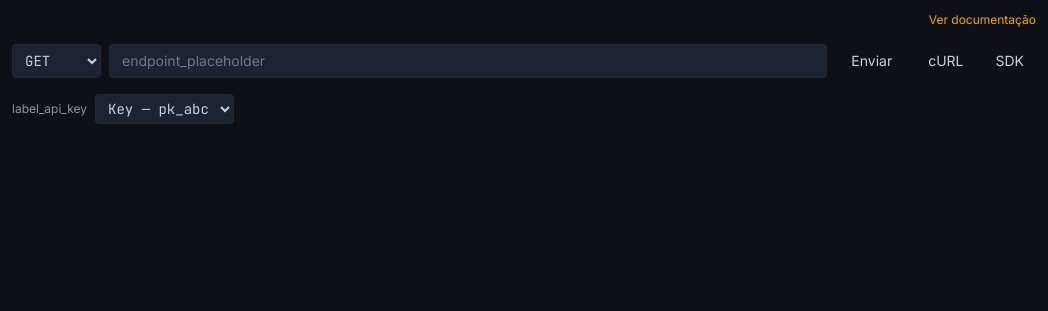
Scenario: PlaygroundPanel — histórico › exibe lista de histórico após envio
The width and height of the screenshot is (1048, 311).
Expected: the dropdown with test id "apikey-select" is shown, [95,94,234,124]
In the field with test id "endpoint-input": (468, 61) [109,44,827,78], type "/v1/check"
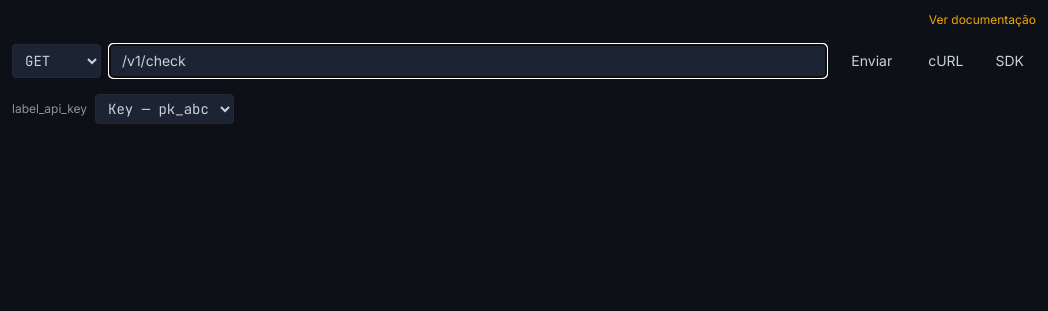
Click the button with test id "btn-send": (872, 61) [835,45,908,77]
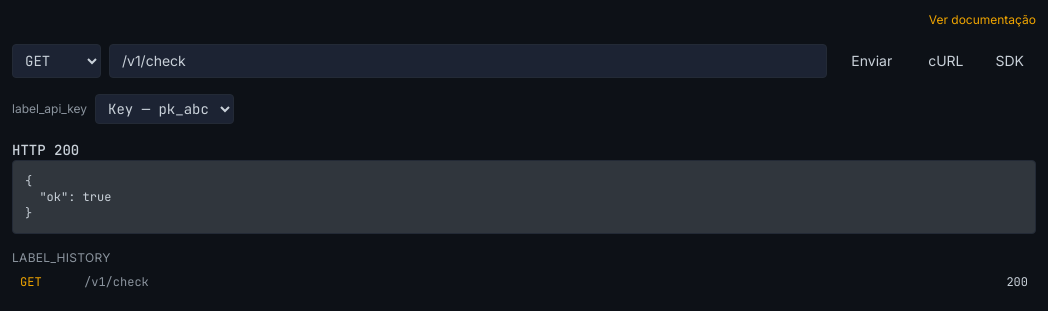
Expected: the list with test id "history-list" is shown, [12,270,1036,294]
